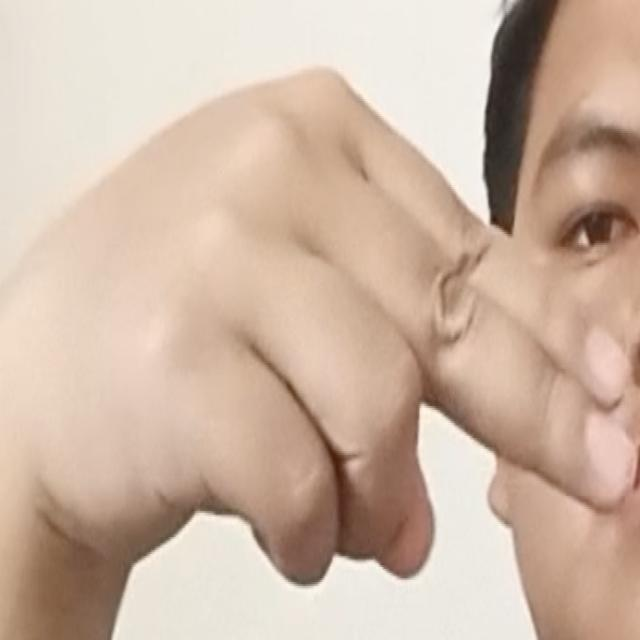N: (0, 49, 637, 591)
